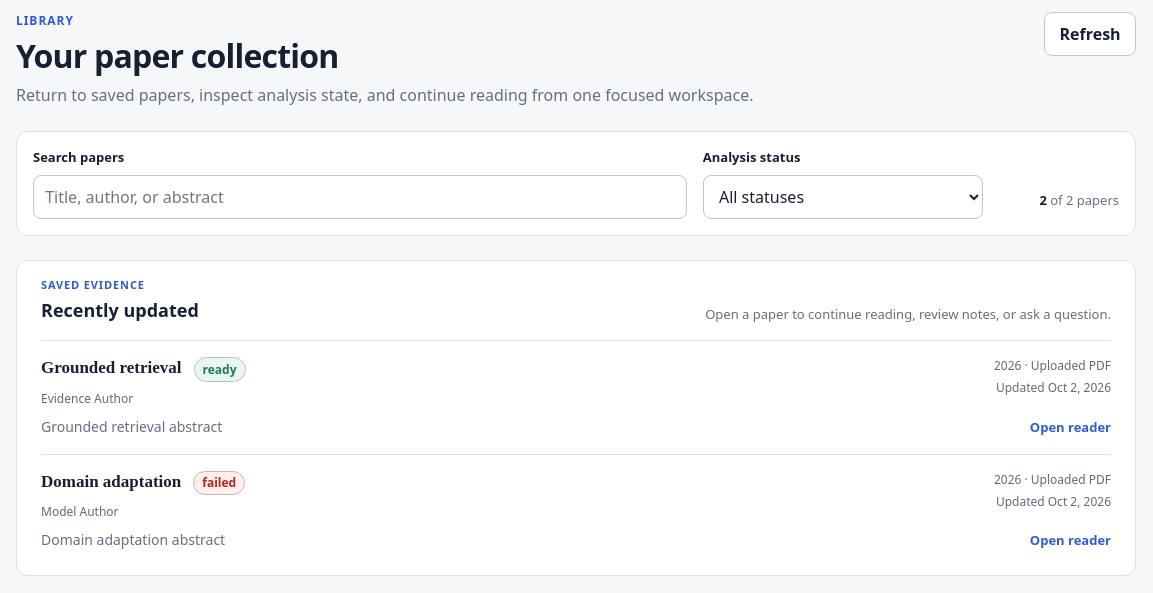
LibraryPage › supports title search and status filtering
The width and height of the screenshot is (1153, 593).
Check: the link "Grounded retrieval" is shown, box [41,357,182,380]
Check: the link "Domain adaptation" is shown, box [41,471,181,494]
In the search field labelled "Search papers": (360, 197) [33,175,687,219], type "retrieval"
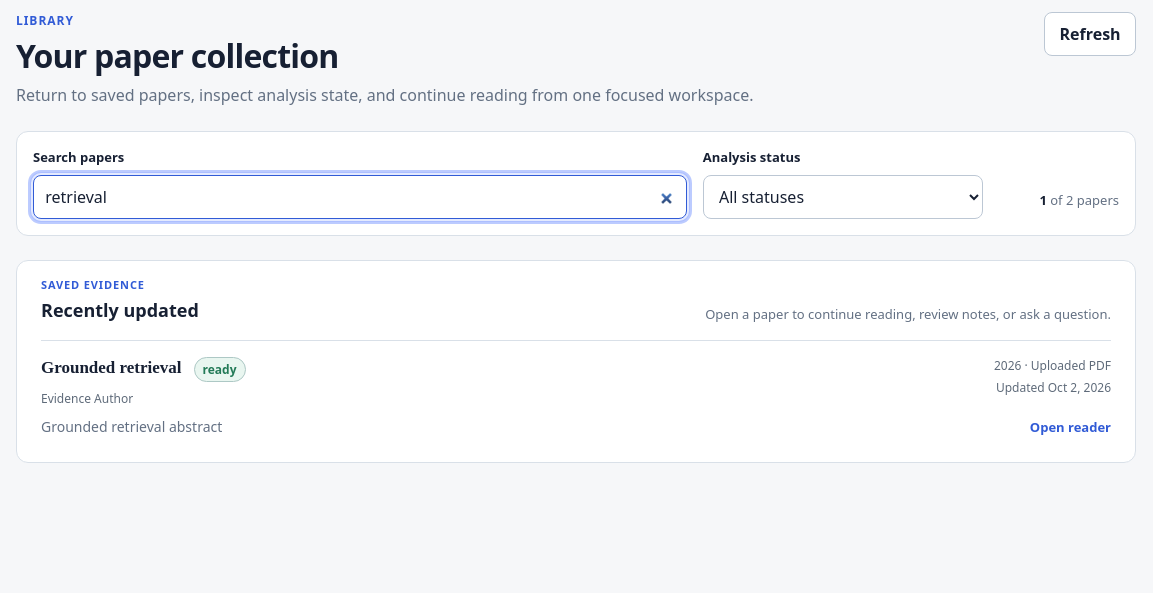
Check: the link "Grounded retrieval" is shown, box [41,357,182,380]
Check: the link "Domain adaptation" is gone
Clear the search field labelled "Search papers": (360, 197) [33,175,687,219]
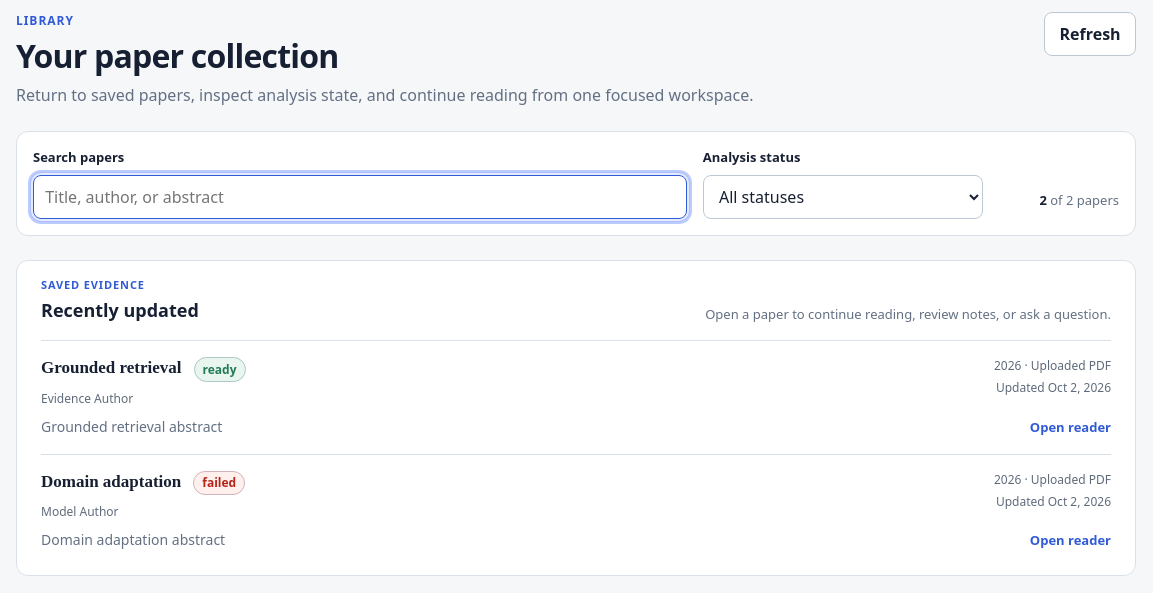
Select "Failed" in the dropdown labelled "Analysis status": (843, 197) [703,175,983,219]
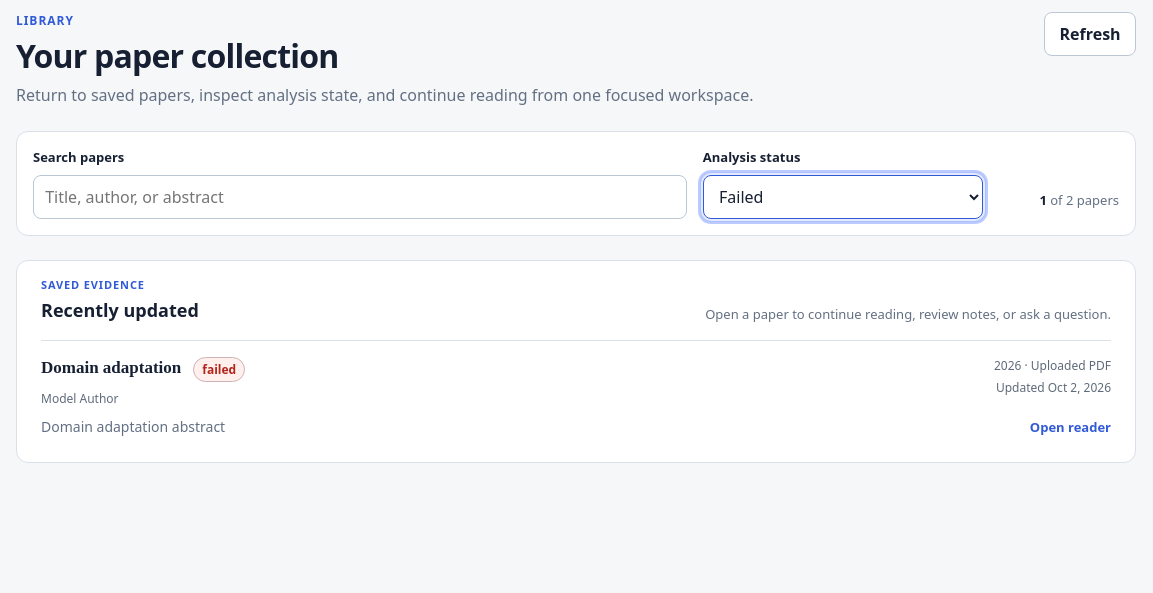
Check: the link "Domain adaptation" is shown, box [41,357,181,380]
Check: the link "Grounded retrieval" is gone
